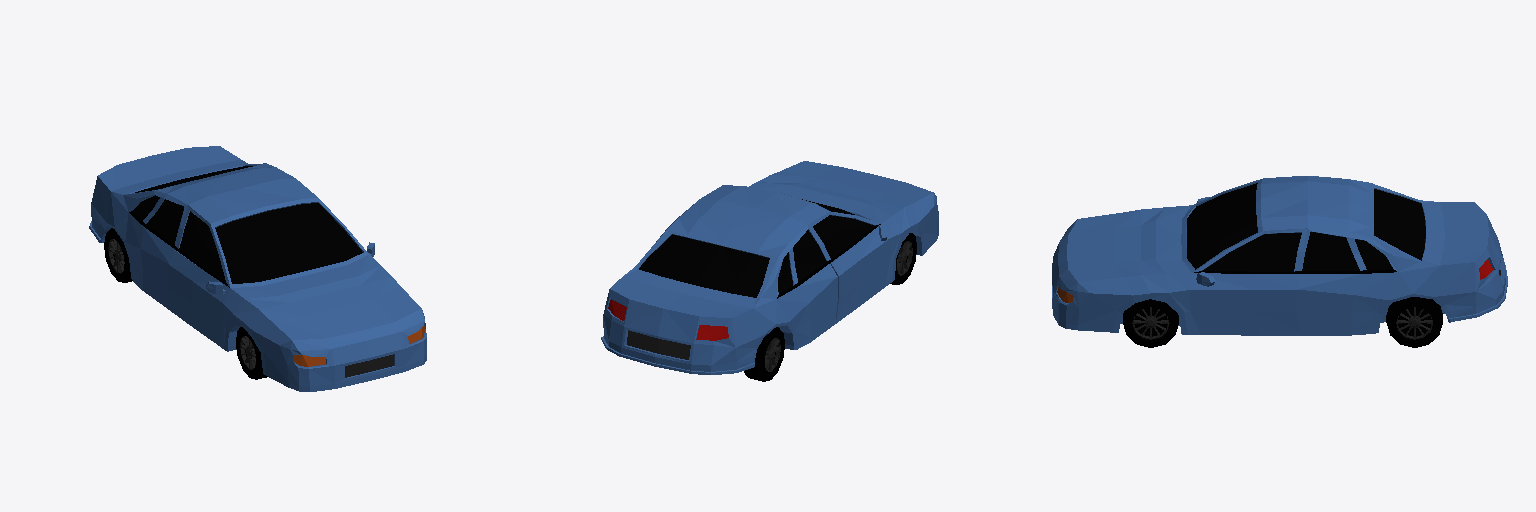
The model's file is car.obj.
3 renders of one model, left to right at view 1: azimuth 30°, elevation 25°; view 2: azimuth 150°, elevation 25°; view 3: azimuth 270°, elevation 25°, orthographic.
Visible parts, largest first — view 1: car_Cube.012, NormalCar1_BackWheels_Cube.011, NormalCar1_FrontRightWheel_Cube.008; view 2: car_Cube.012, NormalCar1_BackWheels_Cube.011, NormalCar1_FrontRightWheel_Cube.008; view 3: car_Cube.012, NormalCar1_BackWheels_Cube.011, NormalCar1_FrontLeftWheel_Cube.007.
Part boxes in pixels (bbox=[...]): car_Cube.012: bbox=[89, 146, 426, 391]; NormalCar1_BackWheels_Cube.011: bbox=[104, 228, 132, 282]; NormalCar1_FrontRightWheel_Cube.008: bbox=[236, 327, 267, 379]; car_Cube.012: bbox=[601, 161, 938, 374]; NormalCar1_BackWheels_Cube.011: bbox=[744, 327, 784, 381]; NormalCar1_FrontRightWheel_Cube.008: bbox=[890, 233, 916, 284]; car_Cube.012: bbox=[1052, 176, 1507, 335]; NormalCar1_BackWheels_Cube.011: bbox=[1386, 297, 1442, 347]; NormalCar1_FrontLeftWheel_Cube.007: bbox=[1123, 299, 1178, 347].
Size of the model in its own units: 1.81 by 1.18 by 4.22.